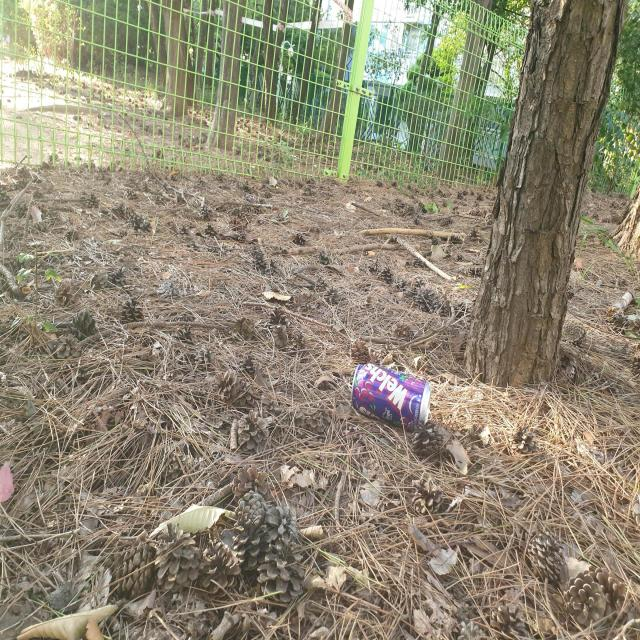can: (352, 363, 431, 428)
